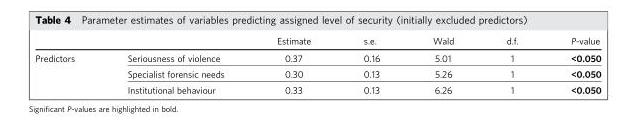table: (34, 34, 600, 94)
table column: (100, 34, 250, 94), (250, 34, 336, 94), (405, 34, 479, 94), (336, 34, 405, 94), (34, 34, 100, 94), (479, 34, 543, 94), (543, 34, 600, 94)
table column header: (34, 34, 600, 48)
table row: (34, 48, 600, 65), (34, 65, 600, 81), (34, 34, 600, 48), (34, 81, 600, 94)
table spanning cell: (34, 48, 100, 94)
